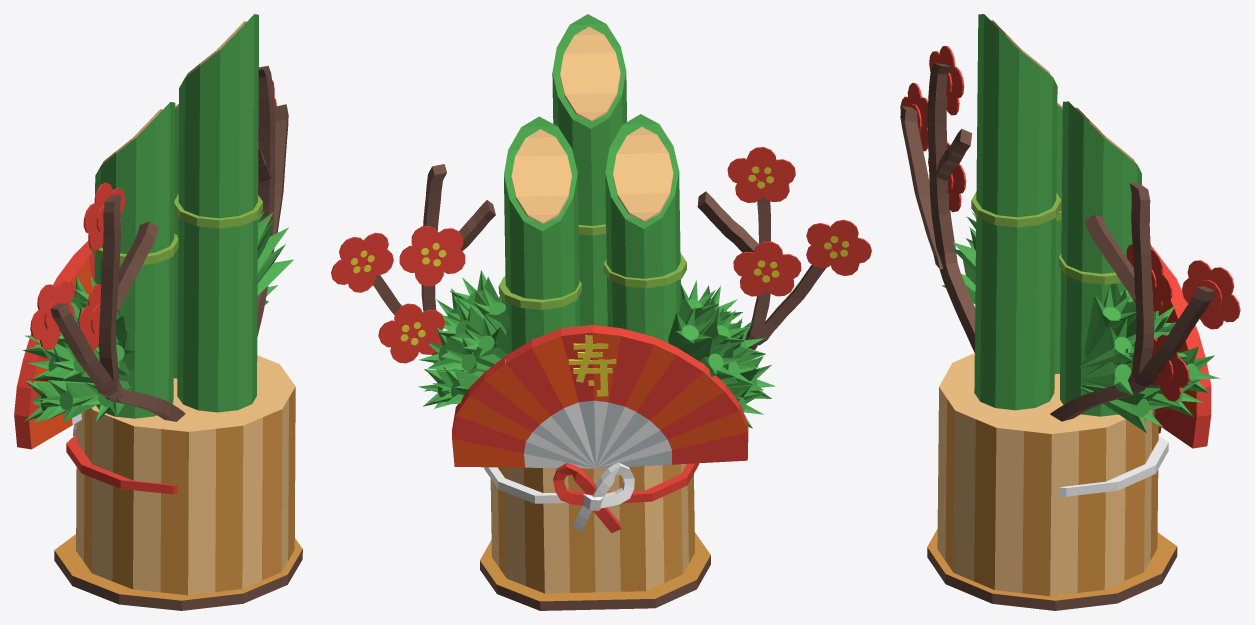
File: kadomatsu.obj
The picture shows the model from 3 angles, left to right: view 1: azimuth 30°, elevation 25°; view 2: azimuth 150°, elevation 25°; view 3: azimuth 270°, elevation 25°; orthographic projection. The views are drawn at different scales.
Visible parts, largest first — view 1: group1522038033, group1962033550, group791104047, group16554217, group1097251287, group596966921, group721622738, group1161720071, group1120999412, group774198697, group535238824, group920369241 (+13 smaller); view 2: group1522038033, group1184605265, group1097251287, group1622278290, group791104047, group756635626, group1962033550, group16554217, group1849855828, group894722733, group297313690, group535238824 (+22 smaller); view 3: group1522038033, group1962033550, group1622278290, group16554217, group756635626, group1161720071, group1120999412, group596966921, group721622738, group778912242, group1082016997, group74557504 (+14 smaller).
Boxes of the visible parts, x1,y1,x2,y2 form: group1522038033: (76, 355, 295, 595); group1962033550: (177, 14, 258, 412); group791104047: (94, 102, 175, 418); group16554217: (54, 534, 302, 610); group1097251287: (14, 333, 81, 449); group596966921: (99, 194, 121, 344); group721622738: (50, 303, 123, 400); group1161720071: (258, 65, 275, 201); group1120999412: (99, 334, 185, 421); group774198697: (66, 434, 177, 494); group535238824: (116, 221, 158, 310); group920369241: (38, 380, 97, 422); group1522038033: (490, 464, 694, 593); group1184605265: (506, 325, 676, 468); group1097251287: (596, 347, 748, 468); group1622278290: (504, 116, 580, 352); group791104047: (605, 114, 680, 343); group756635626: (452, 356, 595, 468); group1962033550: (552, 14, 626, 326); group16554217: (480, 533, 710, 610); group1849855828: (560, 27, 620, 121); group894722733: (511, 129, 571, 224); group297313690: (613, 127, 673, 221); group535238824: (697, 191, 758, 252); group1522038033: (937, 353, 1158, 596); group1962033550: (974, 14, 1057, 410); group1622278290: (1060, 101, 1141, 416); group16554217: (927, 529, 1177, 610); group756635626: (1153, 307, 1211, 448); group1161720071: (1130, 183, 1154, 334); group1120999412: (930, 199, 975, 352); group596966921: (927, 63, 951, 201); group721622738: (900, 106, 942, 269); group778912242: (1130, 286, 1214, 392); group1082016997: (1050, 325, 1154, 421); group74557504: (1058, 435, 1168, 496).
Bounding box in the file's own units: 0.1451 × 0.1881 × 0.1026.
